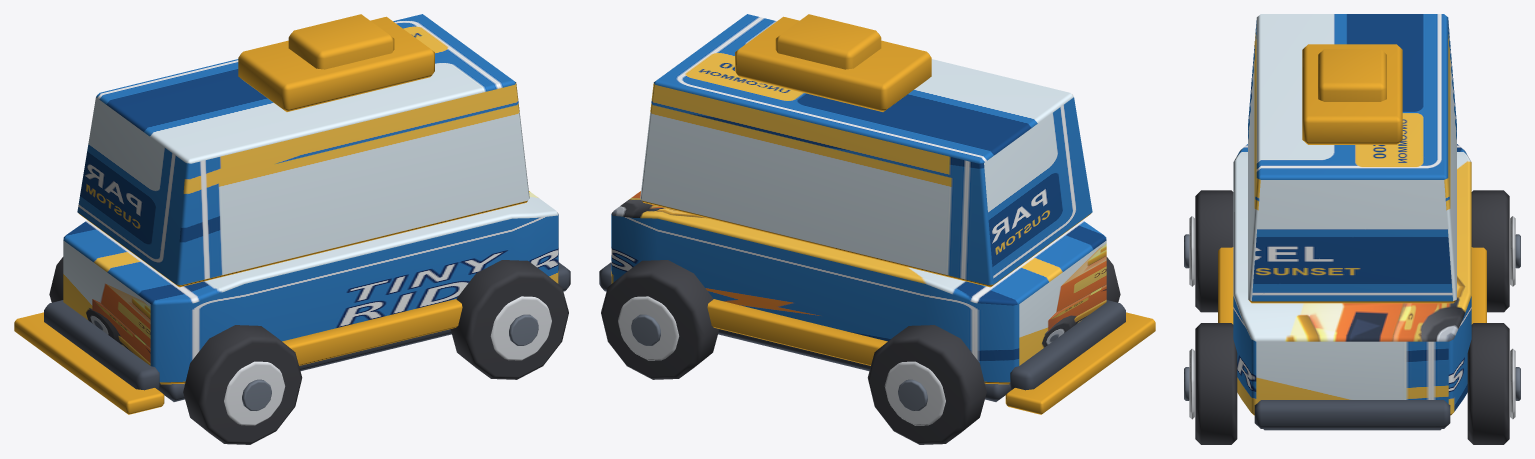
3 renders of one model, left to right at view 1: azimuth 30°, elevation 25°; view 2: azimuth 150°, elevation 25°; view 3: azimuth 270°, elevation 25°, orthographic.
Parts seen in each view (by area): view 1: CC-03_cabin, CC-03_connected_shell, custom equipment, Tire, Tire.002, custom side guard, custom chin, roof sign, front bumper, Rim.002, Rim, underbody (+2 smaller); view 2: CC-03_cabin, CC-03_connected_shell, custom equipment, Tire.001, Tire.003, custom side guard.001, custom chin, roof sign, front bumper, Rim.003, Rim.001, underbody (+2 smaller); view 3: CC-03_cabin, CC-03_connected_shell, custom equipment, rear bumper, Tire.002, Tire.003, Tire, Tire.001, roof sign, custom side guard, custom side guard.001, Rim.002 (+4 smaller).
Part boxes in pixels (x1=…): CC-03_cabin: x1=77, y1=14, x2=529, y2=287; CC-03_connected_shell: x1=63, y1=191, x2=558, y2=384; custom equipment: x1=238, y1=16, x2=434, y2=111; Tire: x1=183, y1=325, x2=302, y2=444; Tire.002: x1=450, y1=260, x2=568, y2=379; custom side guard: x1=282, y1=299, x2=462, y2=365; custom chin: x1=14, y1=312, x2=164, y2=414; roof sign: x1=288, y1=14, x2=394, y2=69; front bumper: x1=44, y1=300, x2=160, y2=390; Rim.002: x1=490, y1=296, x2=551, y2=360; Rim: x1=224, y1=361, x2=285, y2=425; underbody: x1=158, y1=329, x2=451, y2=401; CC-03_cabin: x1=640, y1=14, x2=1092, y2=287; CC-03_connected_shell: x1=611, y1=191, x2=1106, y2=384; custom equipment: x1=735, y1=16, x2=931, y2=111; Tire.001: x1=867, y1=325, x2=986, y2=444; Tire.003: x1=601, y1=260, x2=719, y2=379; custom side guard.001: x1=707, y1=299, x2=887, y2=365; custom chin: x1=1005, y1=312, x2=1155, y2=414; roof sign: x1=775, y1=14, x2=881, y2=69; front bumper: x1=1009, y1=300, x2=1125, y2=390; Rim.003: x1=618, y1=296, x2=679, y2=360; Rim.001: x1=884, y1=361, x2=945, y2=425; underbody: x1=718, y1=329, x2=1011, y2=401; CC-03_cabin: x1=1248, y1=14, x2=1456, y2=303; CC-03_connected_shell: x1=1233, y1=144, x2=1471, y2=415; custom equipment: x1=1302, y1=44, x2=1402, y2=144; rear bumper: x1=1254, y1=400, x2=1450, y2=428; Tire.002: x1=1195, y1=323, x2=1237, y2=444; Tire.003: x1=1467, y1=323, x2=1509, y2=444; Tire: x1=1195, y1=190, x2=1233, y2=312; Tire.001: x1=1471, y1=190, x2=1509, y2=312; roof sign: x1=1318, y1=49, x2=1386, y2=101; custom side guard: x1=1218, y1=247, x2=1233, y2=324; custom side guard.001: x1=1471, y1=247, x2=1486, y2=324; Rim.002: x1=1189, y1=348, x2=1194, y2=419.
Size of the model in its own units: 332 by 222 by 209.
